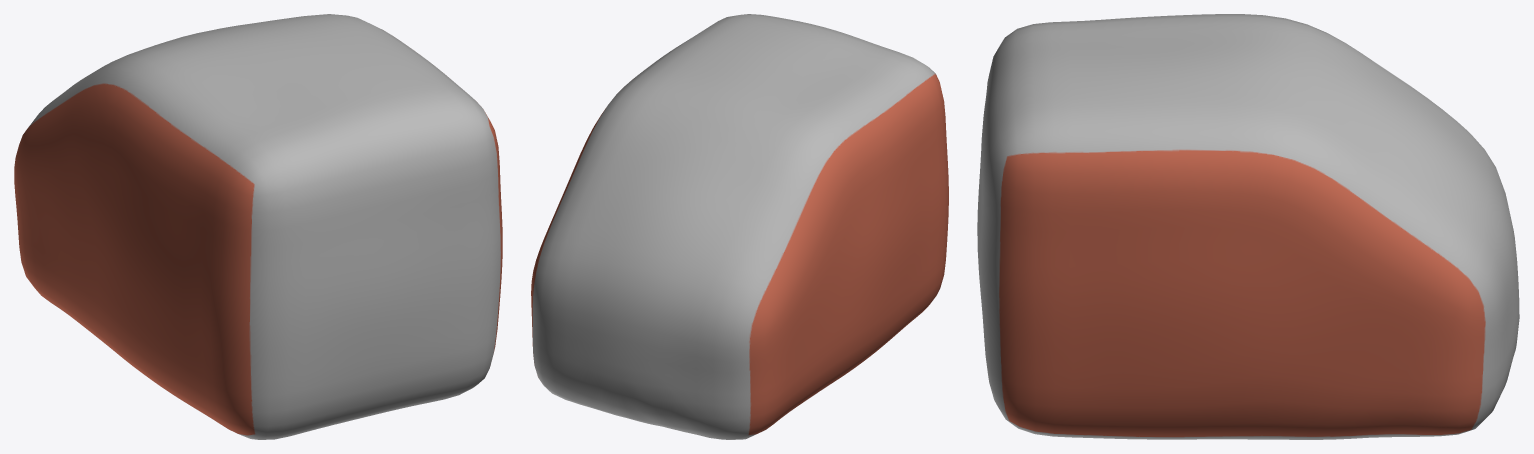
Rendered from Wing_L_L.fbx.
3 views of the same model, side by side, from view 1: azimuth 30°, elevation 25°; view 2: azimuth 150°, elevation 25°; view 3: azimuth 270°, elevation 25° (orthographic). The views are drawn at different scales.
Parts seen in each view (by area): view 1: Wing_L; view 2: Wing_L; view 3: Wing_L.
Part boxes in pixels (x1,y1,x2,y2): Wing_L: (14, 14, 502, 439); Wing_L: (531, 14, 948, 439); Wing_L: (977, 14, 1519, 439).
Bounding box in the file's own units: 168 × 168 × 250.
